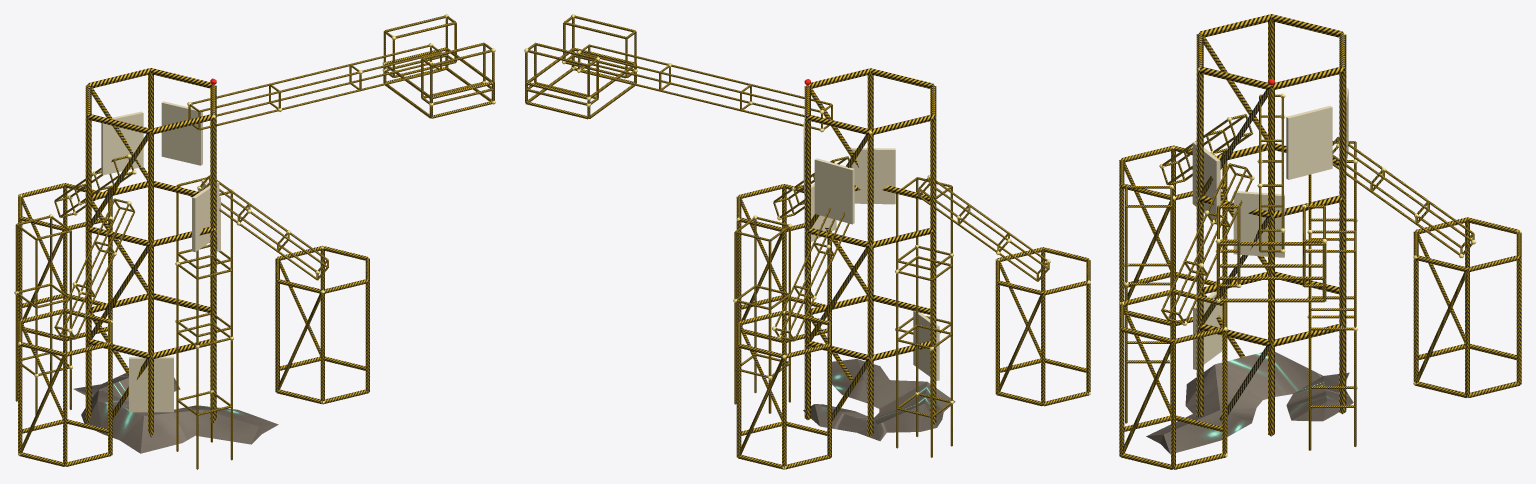
The model's file is mining_facility_build1_debris1.obj.
The picture shows the model from 3 angles, left to right: view 1: azimuth 30°, elevation 25°; view 2: azimuth 150°, elevation 25°; view 3: azimuth 270°, elevation 25°; orthographic projection. The views are drawn at different scales.
Parts seen in each view (by area): view 1: post, girder, plate, rock, brace, work_light; view 2: post, girder, plate, rock, brace, work_light; view 3: post, girder, rock, plate, brace, work_light.
Boxes of the visible parts, left/top/right/bottom form: post: left=15, top=44, right=441, bottom=469; girder: left=15, top=15, right=494, bottom=466; plate: left=101, top=101, right=220, bottom=412; rock: left=73, top=373, right=278, bottom=453; brace: left=20, top=88, right=321, bottom=454; work_light: left=14, top=14, right=495, bottom=455; post: left=580, top=44, right=1090, bottom=468; girder: left=525, top=15, right=1090, bottom=469; plate: left=803, top=122, right=939, bottom=380; rock: left=803, top=359, right=955, bottom=441; brace: left=739, top=89, right=1042, bottom=456; work_light: left=524, top=14, right=1090, bottom=469; post: left=1119, top=19, right=1521, bottom=468; girder: left=1119, top=14, right=1521, bottom=469; rock: left=1146, top=352, right=1353, bottom=454; plate: left=1192, top=88, right=1348, bottom=369; brace: left=1122, top=37, right=1466, bottom=454; work_light: left=1119, top=33, right=1521, bottom=457.
Size of the model in its own units: 160 by 100 by 98.61.
Materials: 6 (2 with a texture image).
